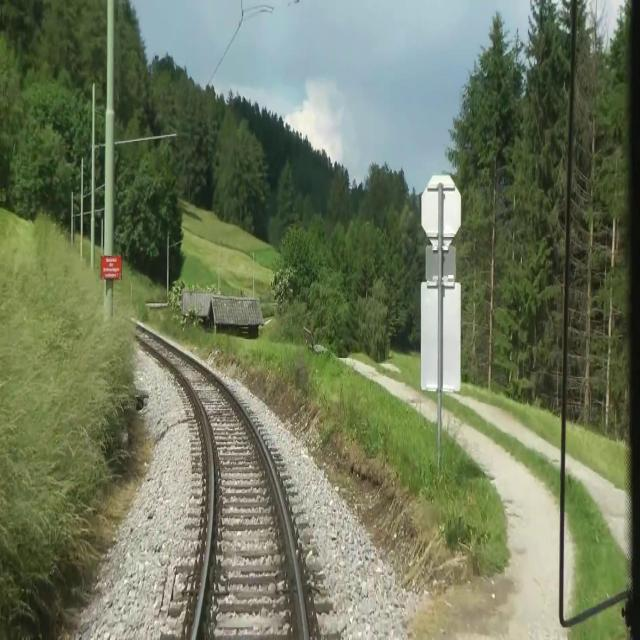rail-track: (131, 324, 304, 639)
